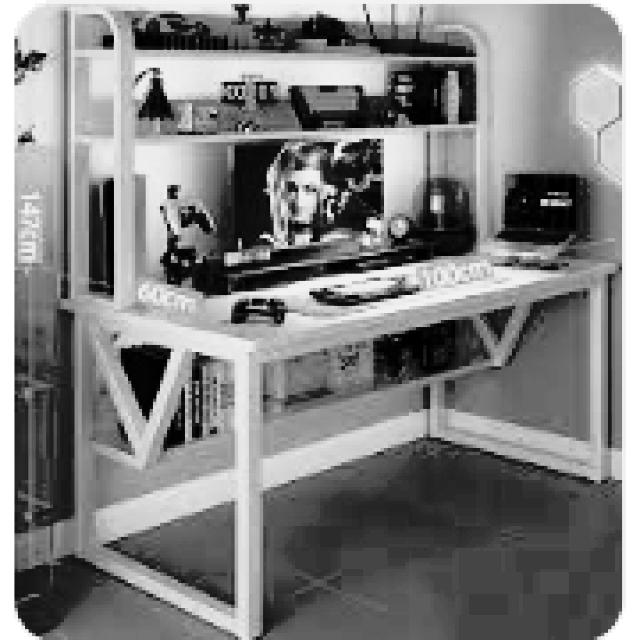table: (57, 246, 619, 636)
